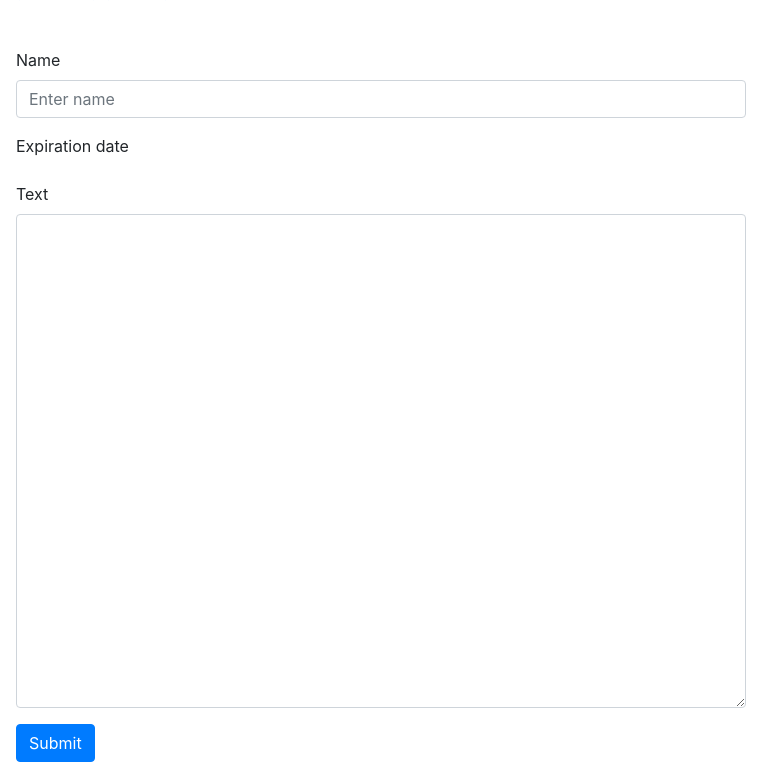
Scenario: Note creation test › Should display errors if form is submitted incorrectly
(page scrolled)
Click the button with test id "submit": {"x": 56, "y": 743} [16,724,95,761]
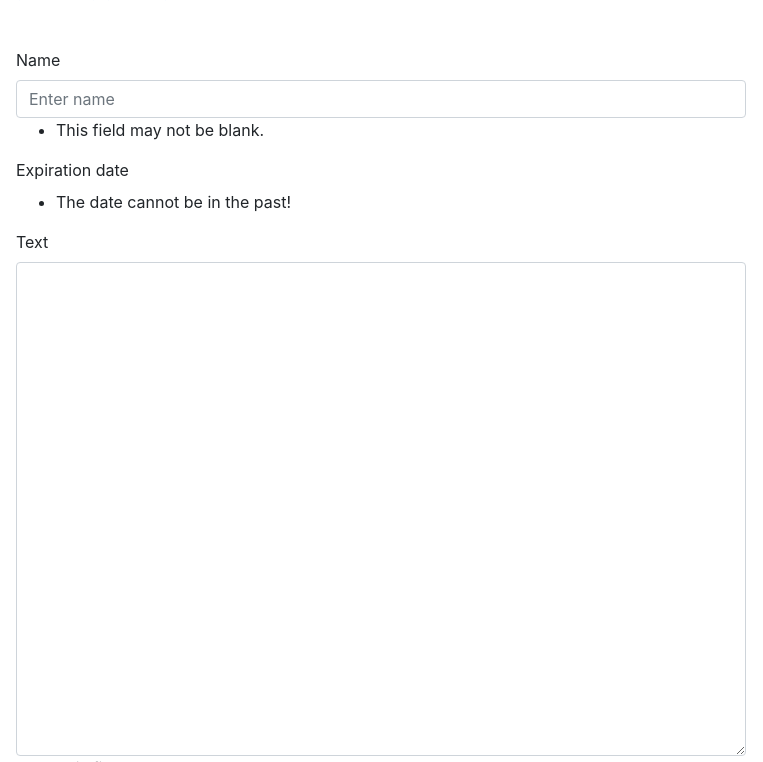
Expected: the list item with test id "name-error" reads "This field may not be blank.", [56,120,264,140]
Expected: the list item with test id "date-error" reads "The date cannot be in the past!", [56,192,291,212]
Expected: the list item with test id "text-error" reads "This field may not be blank.", [56,758,264,761]
